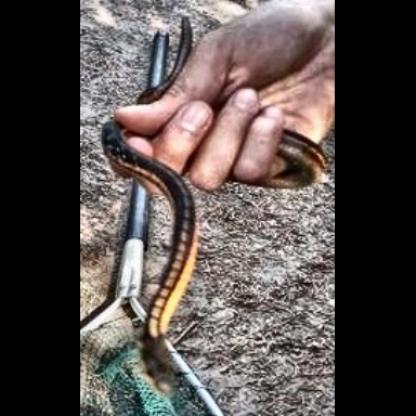Snake: (102, 109, 212, 399)
